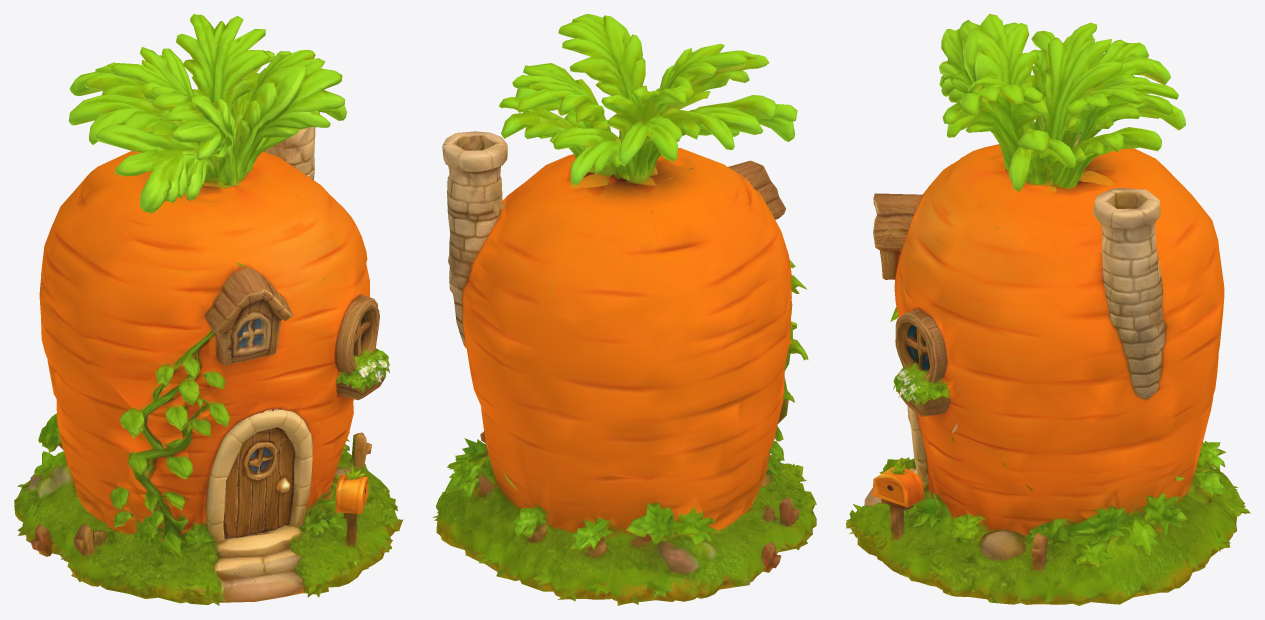
Rendered from carrot_meshy.glb.
3 views of the same model, side by side, from view 1: azimuth 30°, elevation 25°; view 2: azimuth 150°, elevation 25°; view 3: azimuth 270°, elevation 25° (orthographic).
Size of the model in its own units: 1.39 by 1.9 by 1.47.
Materials: 1 (1 with a texture image).
